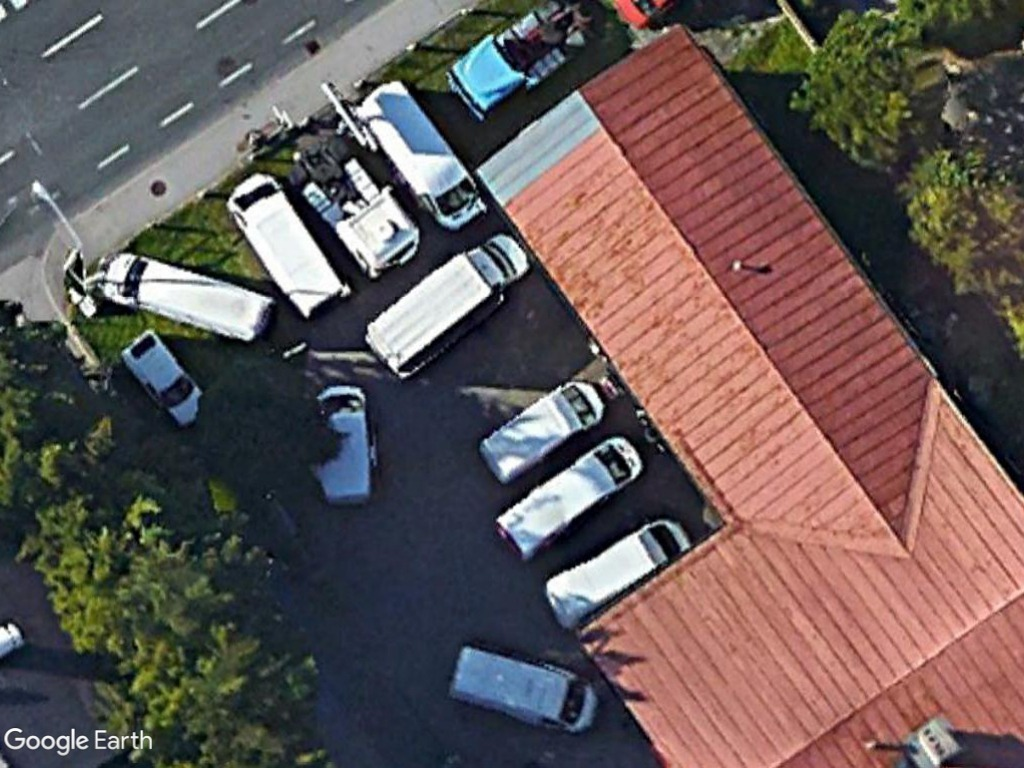car: (108, 328, 215, 429)
pushback: (277, 138, 423, 278)
truck: (359, 224, 534, 382)
van: (492, 426, 641, 565), (359, 78, 495, 230), (220, 170, 350, 322), (541, 511, 693, 635), (94, 251, 277, 344), (441, 636, 600, 738), (473, 369, 607, 484)
